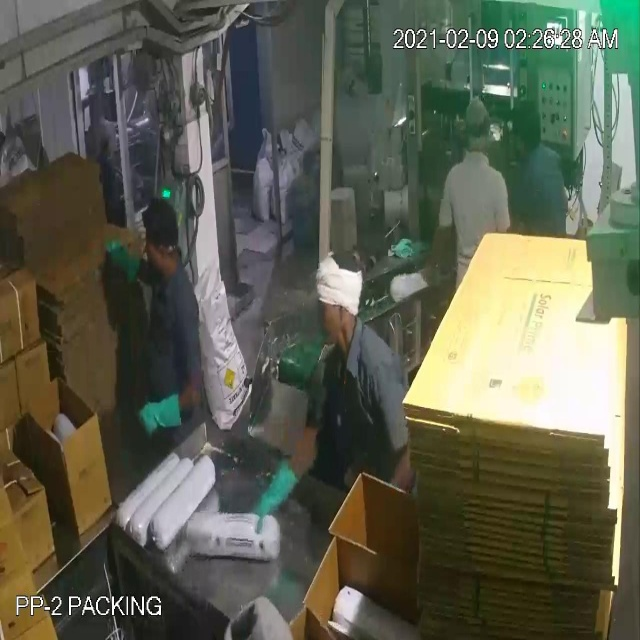Guantes: (249, 450, 305, 547), (128, 375, 189, 446), (104, 226, 144, 293)
Sin_guantes: (418, 212, 453, 293)
